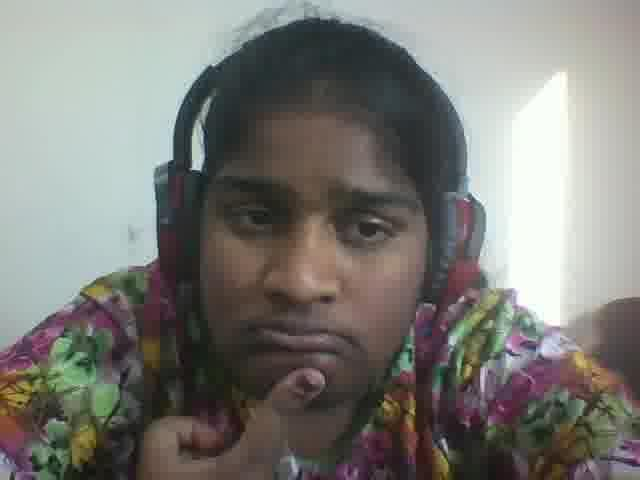bosan: (180, 103, 419, 408)
